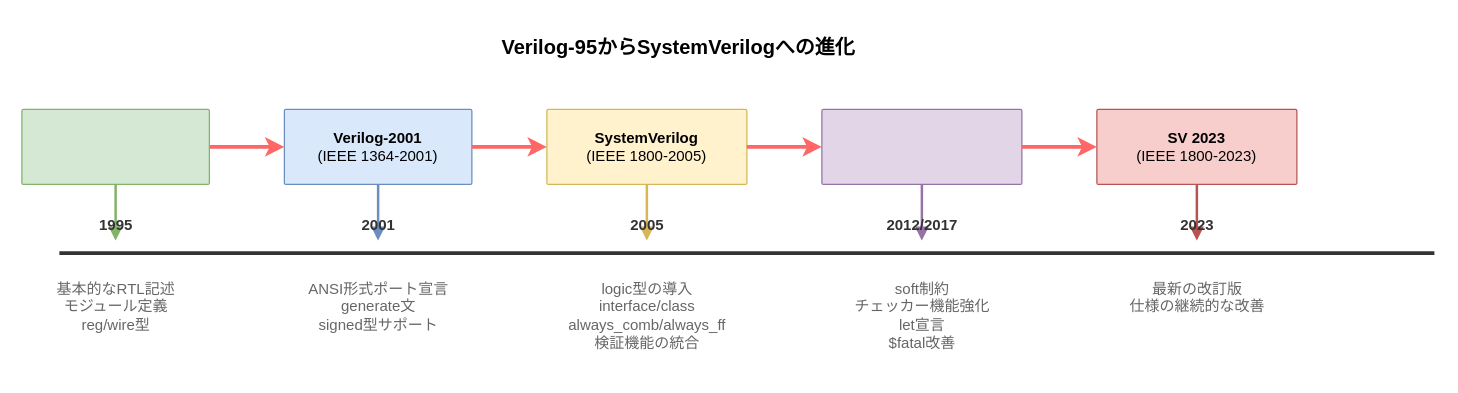
This 1458x393 diagram has some shape labels left out. Here are the shapes that lost their labels. From the top down, the centre of each, then its label:
At pixel 115 146: "Verilog-95 (IEEE 1364-1995)".
At pixel 921 146: "SV 2012/2017 (IEEE 1800-2017)".
